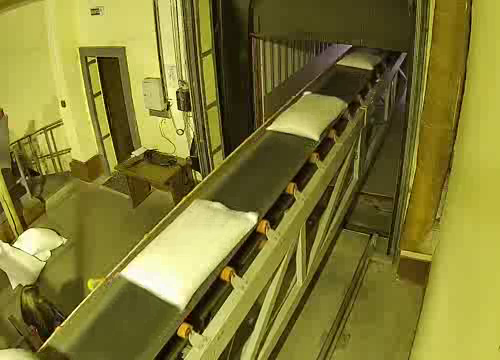bag: (114, 194, 272, 317), (258, 87, 351, 144), (334, 44, 392, 74), (0, 341, 53, 360)
